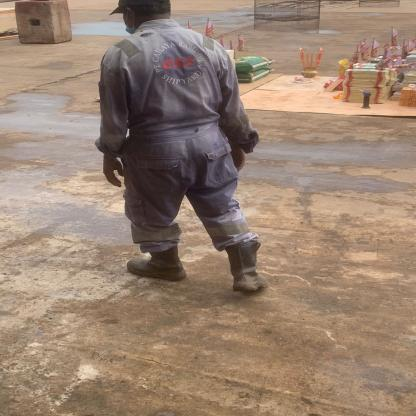bota: (222, 238, 268, 296), (123, 245, 188, 282)
